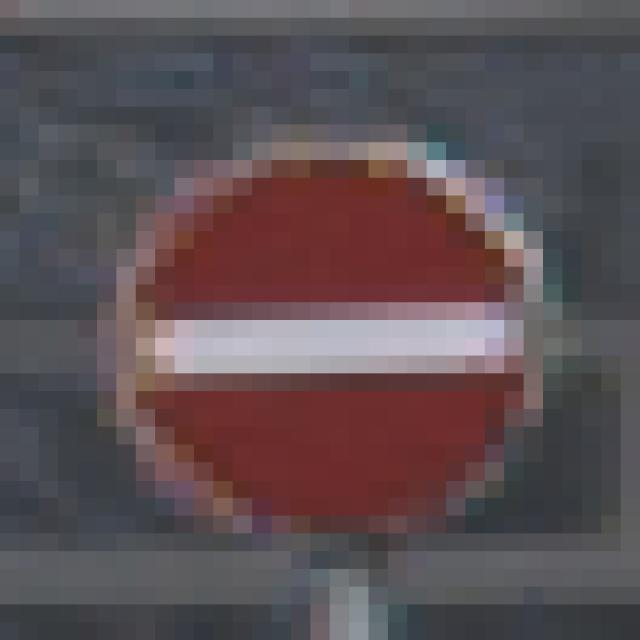No Entry: (98, 108, 544, 552)
